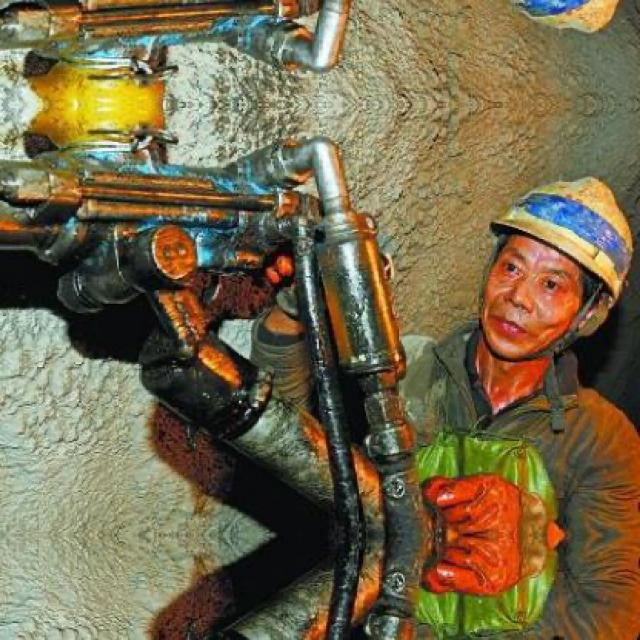helmet: (472, 164, 637, 370), (472, 0, 638, 48)
